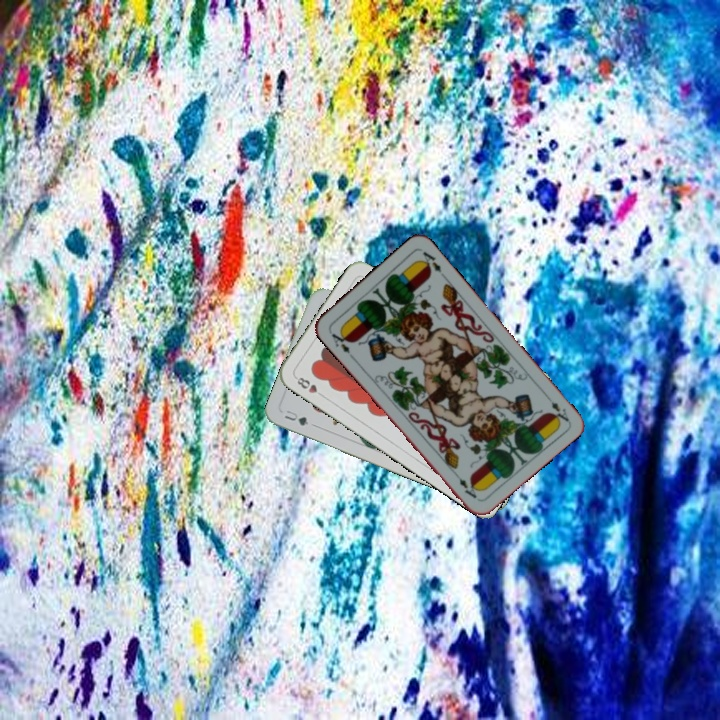EA: (541, 390, 572, 426), (325, 326, 353, 357)
GU: (280, 406, 313, 428)
H8: (291, 373, 327, 400)
